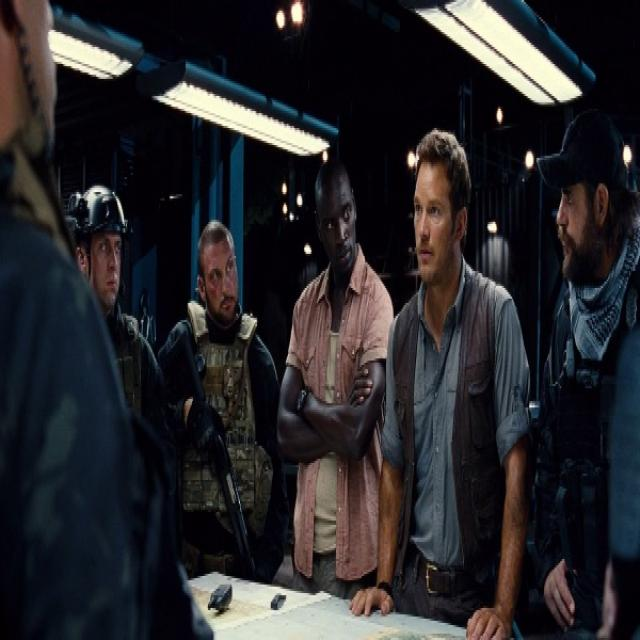rifle: (168, 328, 261, 592)
